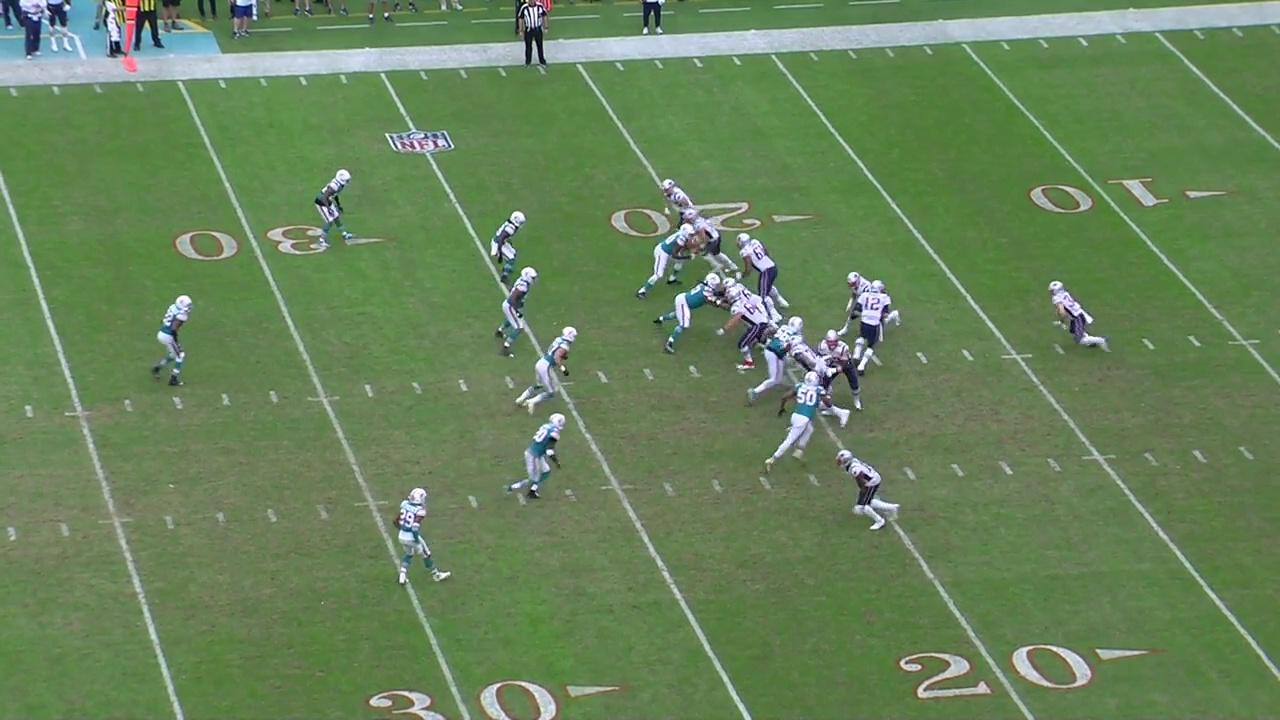defense: (760, 368, 835, 480), (650, 272, 734, 358), (392, 484, 454, 588), (502, 411, 570, 505), (740, 314, 807, 409), (513, 324, 581, 415), (636, 222, 701, 302), (146, 292, 195, 392), (492, 263, 540, 359), (312, 166, 358, 250), (489, 207, 529, 285)
oline: (784, 334, 851, 429), (734, 226, 793, 323), (715, 285, 773, 371), (815, 329, 864, 415), (717, 276, 774, 322)
qb: (847, 277, 894, 378)
ref: (515, 0, 552, 71)
skill: (831, 448, 903, 533), (1045, 279, 1114, 356), (834, 269, 903, 340), (679, 206, 739, 277), (658, 178, 697, 229)
